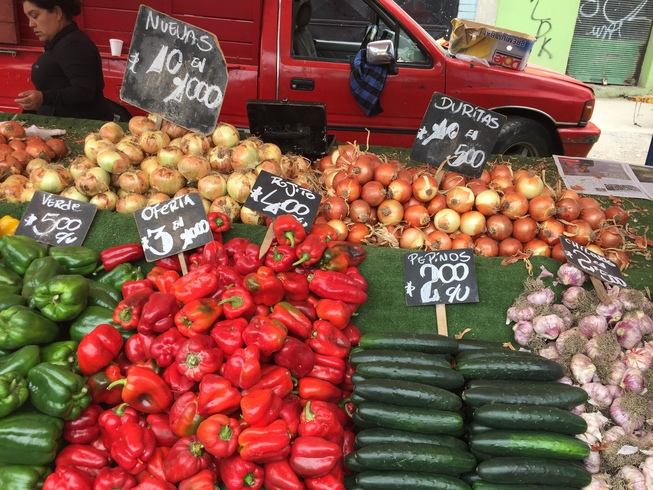precio: (123, 3, 232, 139), (407, 91, 511, 185), (131, 191, 216, 277), (397, 241, 483, 317), (238, 166, 326, 239), (23, 186, 103, 256)
